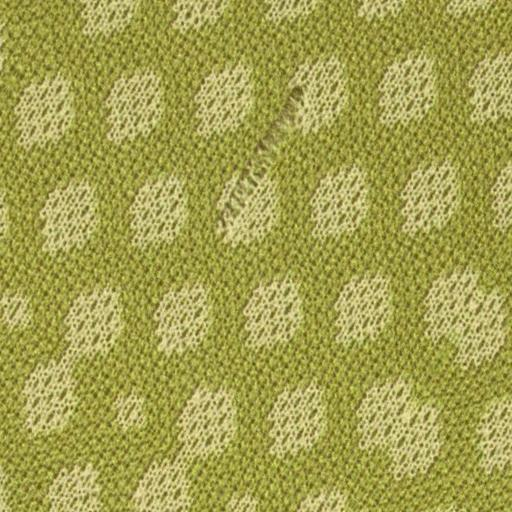slub: (206, 83, 317, 239)
